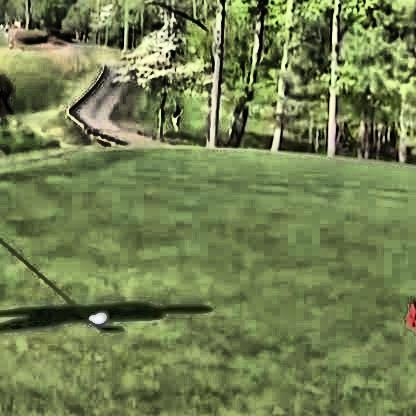golfball: (90, 314, 108, 324)
